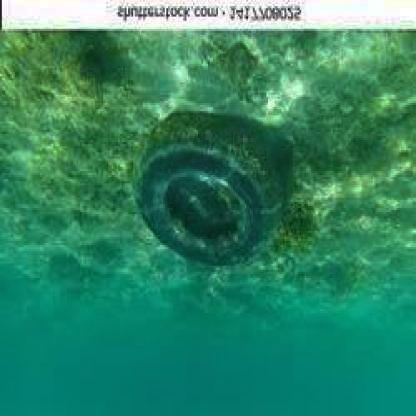tire: (135, 103, 291, 274)
